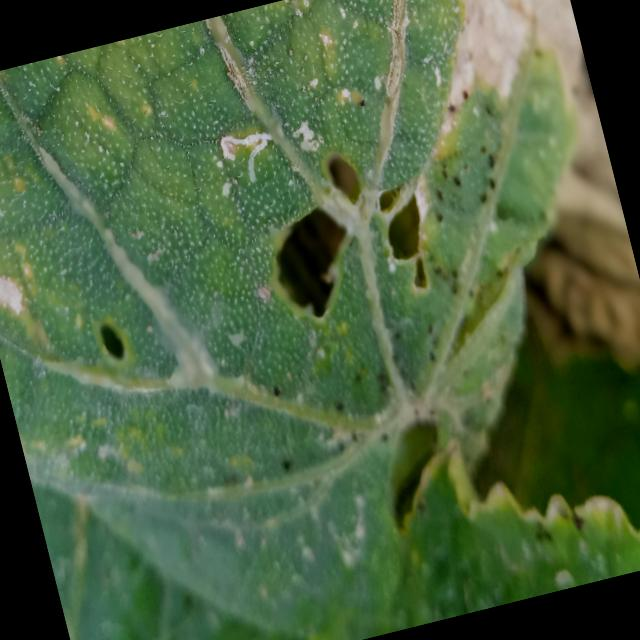cucumber_anthracnose: (3, 0, 640, 605)
